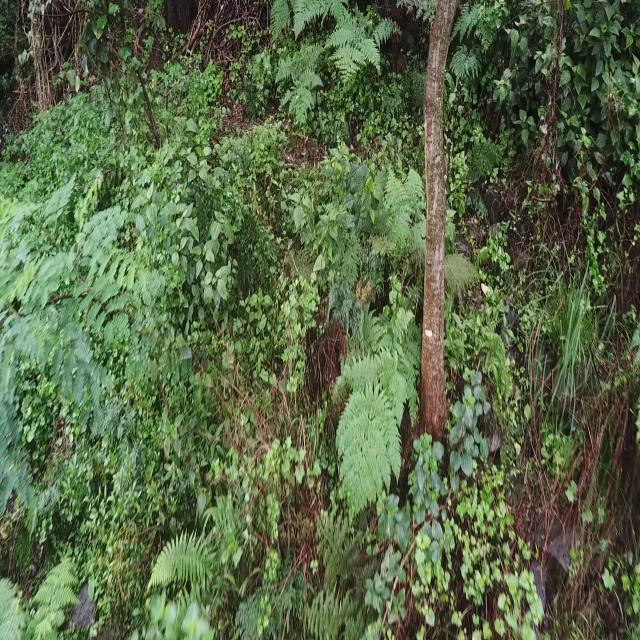Mysore-Thorn-Weed: (0, 157, 168, 506)
